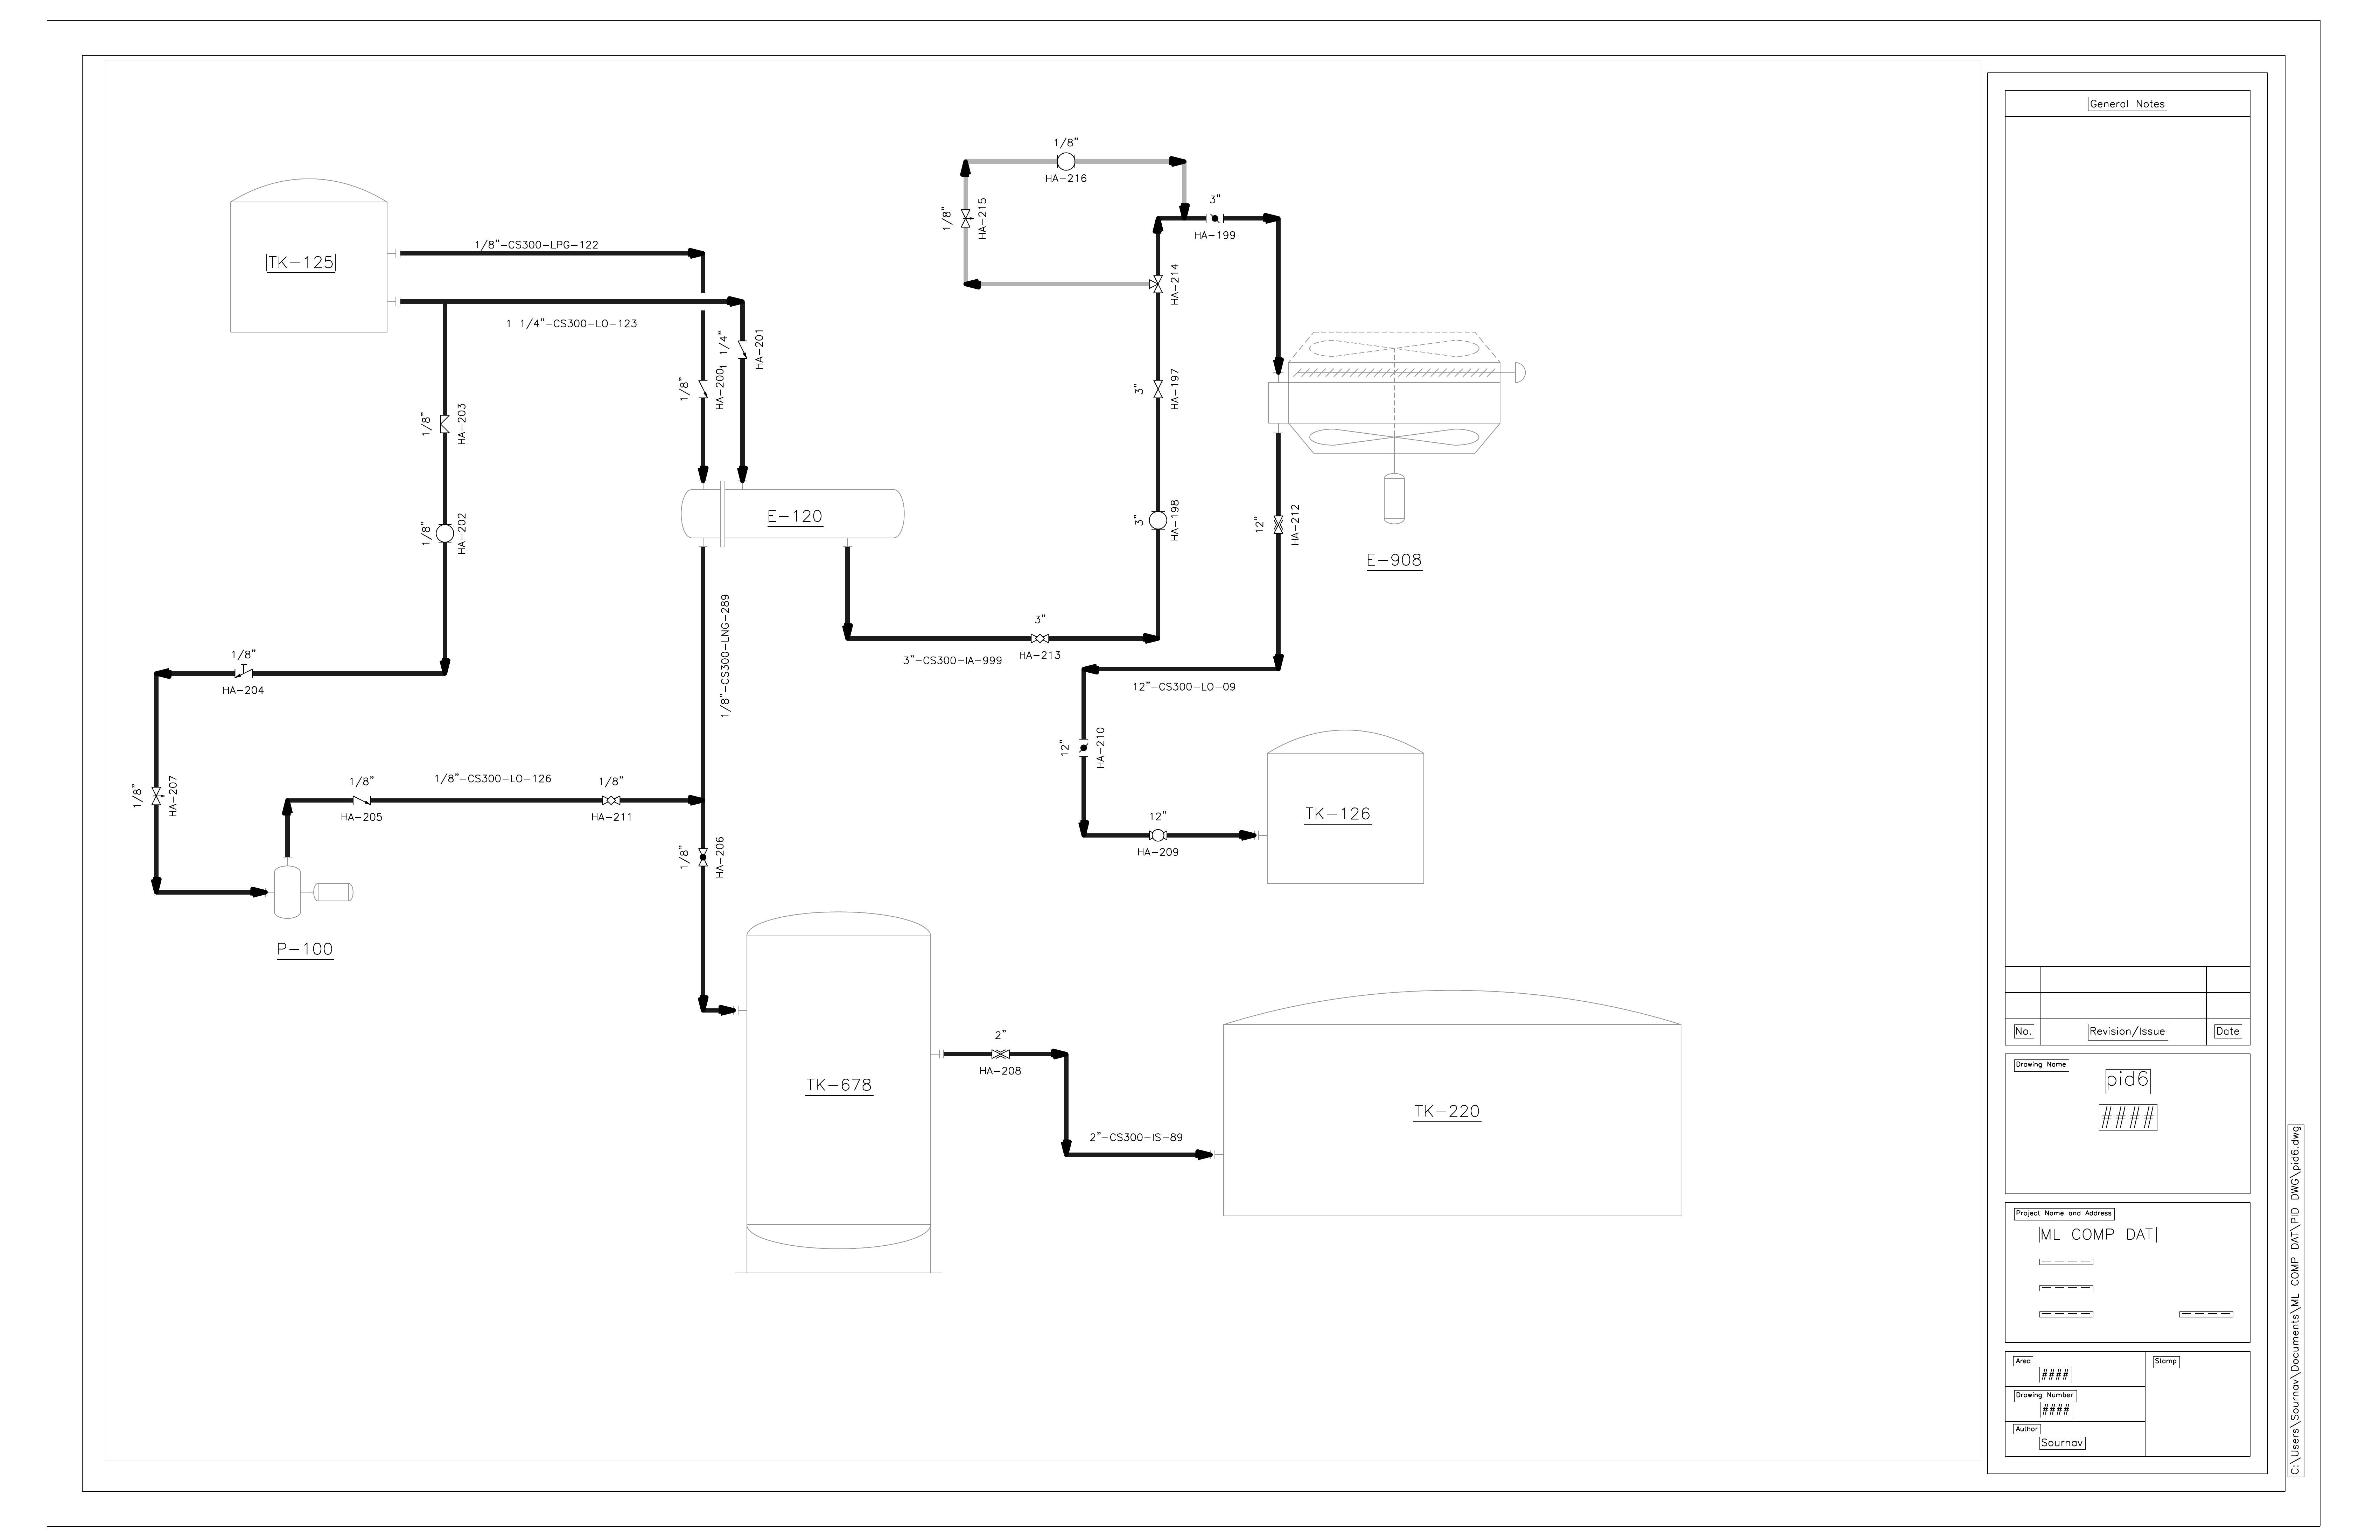Air Cooled Exchanger: (1266, 331, 1527, 525)
Angle Valve: (439, 414, 451, 435)
BEM-TEMA Exchanger: (680, 479, 906, 548)
Ball Valve: (1148, 829, 1167, 843)
Butterfly Valve: (1077, 737, 1089, 758), (1204, 213, 1226, 224)
Check Valve: (697, 378, 709, 401), (350, 794, 373, 806), (737, 340, 749, 361)
Dome Roofed Tank: (1213, 989, 1683, 1217), (229, 179, 397, 335), (1258, 728, 1426, 884)
Gate Valve: (1152, 380, 1164, 399)
Generic Rotary Valve: (1055, 151, 1077, 172), (1148, 510, 1167, 531), (435, 524, 454, 543)
Globe Valve: (697, 848, 709, 867)
Horizontal Centrifugal Pump: (264, 855, 354, 921)
Needle Valve: (149, 786, 167, 806), (959, 208, 975, 229)
Other: (475, 238, 600, 251), (435, 772, 552, 786), (507, 317, 637, 330), (718, 593, 730, 718), (1133, 680, 1237, 692), (902, 654, 1003, 666), (1088, 1131, 1185, 1143)
Pinch Valve: (1272, 515, 1285, 536), (991, 1047, 1011, 1060)
Pipe Diameter: (718, 330, 730, 369), (420, 411, 434, 437), (940, 206, 954, 232), (598, 775, 624, 789), (1055, 135, 1079, 149), (130, 784, 144, 808), (678, 376, 690, 402), (349, 775, 375, 787), (678, 845, 690, 871), (420, 522, 432, 546), (232, 649, 257, 661), (1252, 515, 1265, 534), (1150, 810, 1167, 822), (1207, 192, 1221, 205), (994, 1028, 1008, 1041), (1034, 614, 1046, 624), (1133, 515, 1143, 527), (1134, 383, 1143, 395)
Plug Valve: (600, 794, 623, 806), (1030, 633, 1051, 645)
Stop Check Valve: (232, 664, 255, 680)
Tag: (807, 1075, 874, 1096), (1414, 1103, 1483, 1122), (276, 940, 333, 961), (1367, 551, 1422, 572), (768, 508, 824, 527), (267, 255, 333, 271), (1304, 806, 1370, 822), (1046, 172, 1088, 186), (222, 683, 264, 697), (1018, 649, 1063, 661), (340, 812, 383, 824), (980, 1065, 1022, 1077), (456, 402, 467, 446), (715, 368, 725, 411), (1095, 727, 1105, 770), (1291, 503, 1301, 546), (1169, 498, 1180, 541), (1169, 368, 1180, 411), (1193, 231, 1237, 241), (456, 512, 467, 555), (715, 836, 725, 879), (1138, 846, 1180, 857), (977, 198, 987, 239), (1169, 264, 1180, 305), (755, 330, 765, 369), (592, 812, 631, 822), (168, 775, 177, 817), (1058, 739, 1070, 756)
Three Way Valve: (1148, 274, 1164, 295)
Vessel: (737, 910, 942, 1275)
